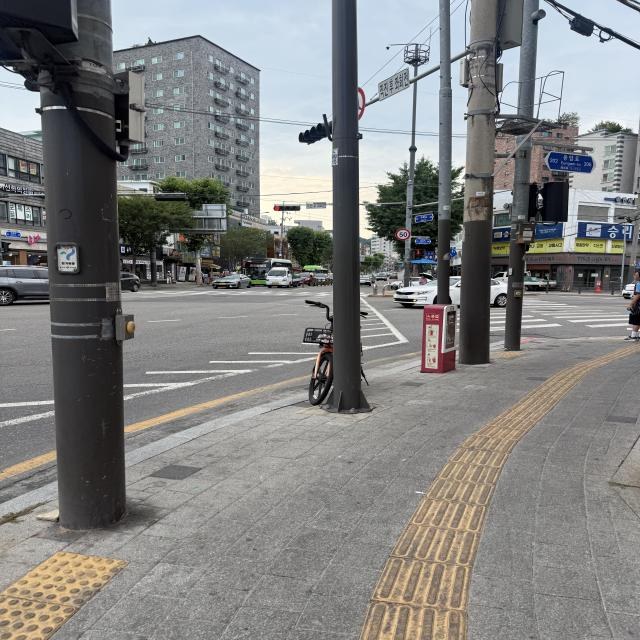bicycle: (292, 294, 378, 407)
car: (387, 264, 532, 315), (243, 256, 295, 289), (209, 270, 255, 293), (262, 266, 304, 290)
